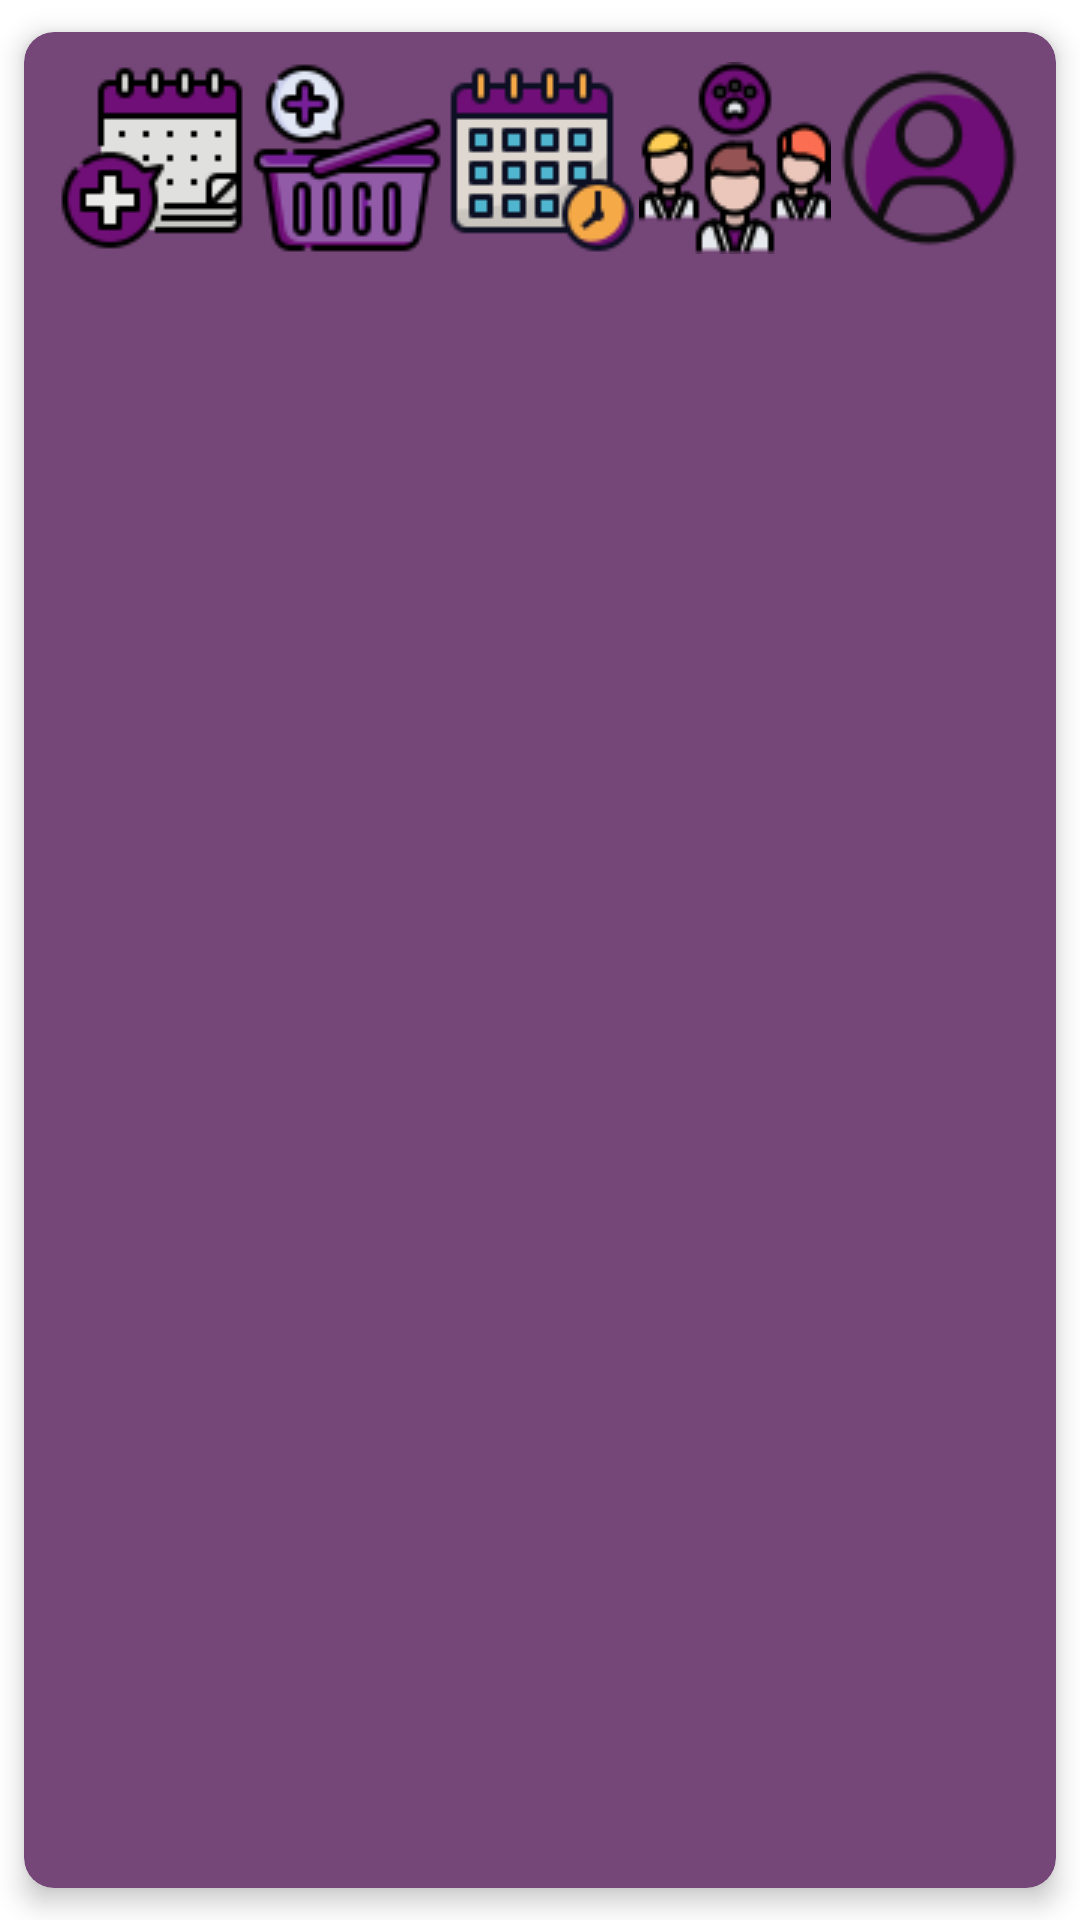

Named icons in this screenshot (1080 x 1920) and their centers, (x=x, y=y):
mis citas: (x=542, y=159)
nosotros: (x=735, y=158)
perfil: (x=929, y=158)
productos: (x=347, y=158)
reserva: (x=152, y=158)
